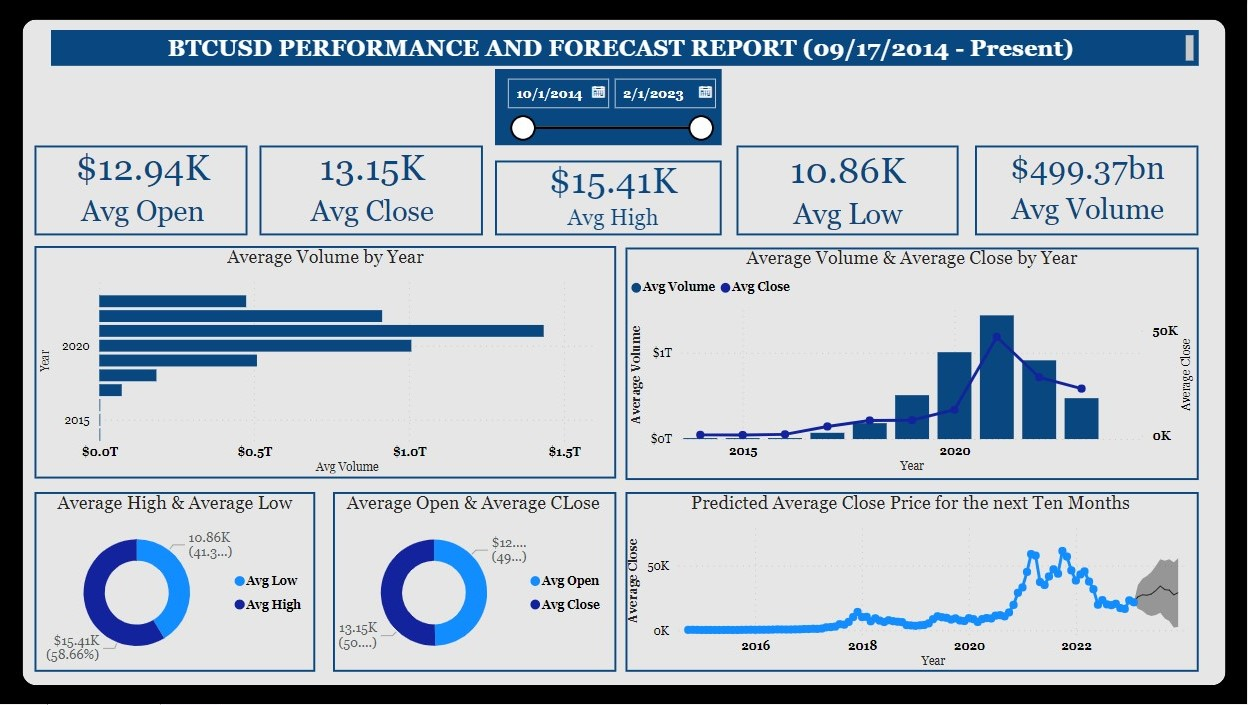

What the dashboard file says about the page in this screenshot:
{"tool":"powerbi","page":{"name":"Page 1","canvas":[1280,720],"ordinal":0},"visuals":[{"type":"shape","box":[25.7,19.7,1231,681.4],"z":0},{"type":"textbox","box":[55.3,30.7,1174.4,36.8],"z":1000},{"type":"slicer","fields":{"Values":["BTCUSD 17/09/2014 - present.Date"]},"box":[563.4,70.6,141.2,78.3],"z":2000},{"type":"shape","box":[38.4,148.9,218,92.1],"z":3000},{"type":"shape","box":[268.7,148.9,228.7,92.1],"z":4000},{"type":"shape","box":[509.7,164.3,231.8,76.8],"z":5000},{"type":"shape","box":[756.8,148.9,227.2,92.1],"z":6000},{"type":"shape","box":[1000.9,148.9,228.7,92.1],"z":7000},{"type":"shape","box":[38.4,251.8,595.7,238],"z":8000},{"type":"shape","box":[643.2,253.3,586.4,238],"z":9000},{"type":"shape","box":[38.4,503.5,287.1,184.2],"z":10000},{"type":"shape","box":[643.2,503.5,586.4,184.2],"z":11000},{"type":"shape","box":[343.9,503.5,290.1,184.2],"z":12000},{"type":"card","fields":{"Values":["BTCUSD 17/09/2014 - present.Avg Open"]},"box":[55.3,132,187.3,109],"z":13000},{"type":"card","fields":{"Values":["BTCUSD 17/09/2014 - present.Avg Close"]},"box":[290.1,132,187.3,109],"z":14000},{"type":"card","fields":{"Values":["BTCUSD 17/09/2014 - present.Avg High"]},"box":[535.8,148.9,188.8,92.1],"z":15000},{"type":"card","fields":{"Values":["BTCUSD 17/09/2014 - present.Avg Low"]},"box":[776.8,135.1,187.3,109],"z":16000},{"type":"card","fields":{"Values":["BTCUSD 17/09/2014 - present.Avg Volume"]},"box":[1022.4,132,187.3,109],"z":17000},{"type":"clusteredBarChart","title":"Average Volume by Year","fields":{"Category":["BTCUSD 17/09/2014 - present.Date.Variation.Date Hierarchy.Year","BTCUSD 17/09/2014 - present.Date.Variation.Date Hierarchy.Month"],"Y":["BTCUSD 17/09/2014 - present.Avg Volume"]},"box":[38.4,251.8,595.7,238],"z":18000},{"type":"lineStackedColumnComboChart","title":"Average Volume & Average Close by Year","fields":{"Category":["BTCUSD 17/09/2014 - present.Date.Variation.Date Hierarchy.Year"],"Y":["BTCUSD 17/09/2014 - present.Avg Volume"],"Y2":["BTCUSD 17/09/2014 - present.Avg Close"]},"box":[643.2,253.3,586.4,234.9],"z":19000},{"type":"donutChart","title":"Average High & Average Low","fields":{"Y":["BTCUSD 17/09/2014 - present.Avg Low","BTCUSD 17/09/2014 - present.Avg High"]},"box":[38.4,503.5,287.1,184.2],"z":20000},{"type":"donutChart","title":"Average Open & Average CLose","fields":{"Y":["BTCUSD 17/09/2014 - present.Avg Open","BTCUSD 17/09/2014 - present.Avg Close"]},"box":[343.9,503.5,287.1,184.2],"z":21000},{"type":"lineChart","title":"Predicted Average Close Price for the next Ten Months","fields":{"Category":["BTCUSD 17/09/2014 - present.Date.Variation.Date Hierarchy.Year","BTCUSD 17/09/2014 - present.Date.Variation.Date Hierarchy.Month"],"Y":["BTCUSD 17/09/2014 - present.Avg Close"]},"box":[640.2,503.5,589.5,184.2],"z":22000}]}

Visuals, with their boxes in screenshot pixels (x1, y1, x2, y2), scaled from the page's 1280x720 canvas onto the 1248x705 screenshot:
shape: <bbox>25, 19, 1225, 686</bbox>
textbox: <bbox>54, 30, 1199, 66</bbox>
slicer - BTCUSD 17/09/2014 - present.Date: <bbox>549, 69, 687, 146</bbox>
shape: <bbox>37, 146, 250, 236</bbox>
shape: <bbox>262, 146, 485, 236</bbox>
shape: <bbox>497, 161, 723, 236</bbox>
shape: <bbox>738, 146, 959, 236</bbox>
shape: <bbox>976, 146, 1199, 236</bbox>
shape: <bbox>37, 247, 618, 480</bbox>
shape: <bbox>627, 248, 1199, 481</bbox>
shape: <bbox>37, 493, 317, 673</bbox>
shape: <bbox>627, 493, 1199, 673</bbox>
shape: <bbox>335, 493, 618, 673</bbox>
card - BTCUSD 17/09/2014 - present.Avg Open: <bbox>54, 129, 237, 236</bbox>
card - BTCUSD 17/09/2014 - present.Avg Close: <bbox>283, 129, 465, 236</bbox>
card - BTCUSD 17/09/2014 - present.Avg High: <bbox>522, 146, 706, 236</bbox>
card - BTCUSD 17/09/2014 - present.Avg Low: <bbox>757, 132, 940, 239</bbox>
card - BTCUSD 17/09/2014 - present.Avg Volume: <bbox>997, 129, 1179, 236</bbox>
"Average Volume by Year" clusteredBarChart: <bbox>37, 247, 618, 480</bbox>
"Average Volume & Average Close by Year" lineStackedColumnComboChart: <bbox>627, 248, 1199, 478</bbox>
"Average High & Average Low" donutChart: <bbox>37, 493, 317, 673</bbox>
"Average Open & Average CLose" donutChart: <bbox>335, 493, 615, 673</bbox>
"Predicted Average Close Price for the next Ten Months" lineChart: <bbox>624, 493, 1199, 673</bbox>
